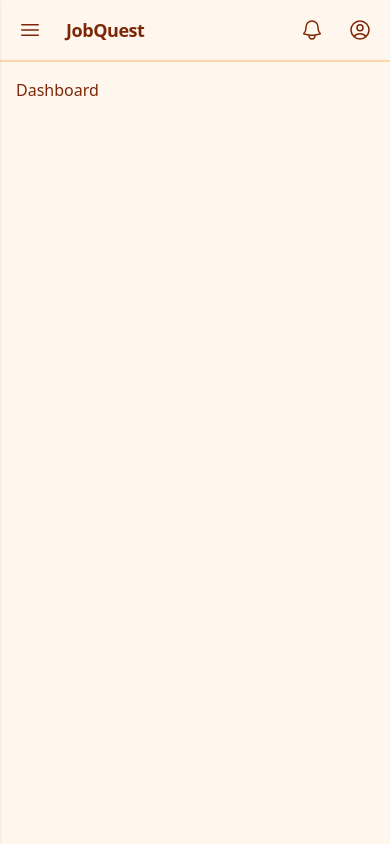
Test case: AppShell › provides an accessible mobile menu control that toggles expanded state
Click the button named "Open navigation menu" at (30, 30), box [8, 8, 52, 52]
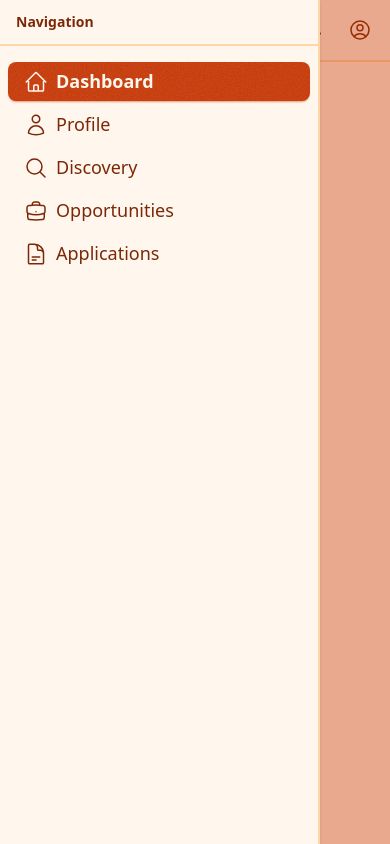
Expected: the navigation bar named "Mobile primary" is shown, [8, 62, 310, 266]
Now the button named "Close navigation menu" is expanded, box [8, 8, 52, 52]
Press Escape
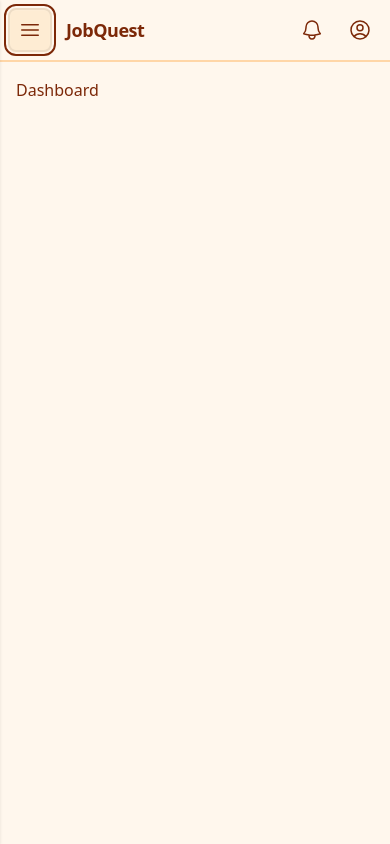
Now the button named "Open navigation menu" is collapsed, box [8, 8, 52, 52]
